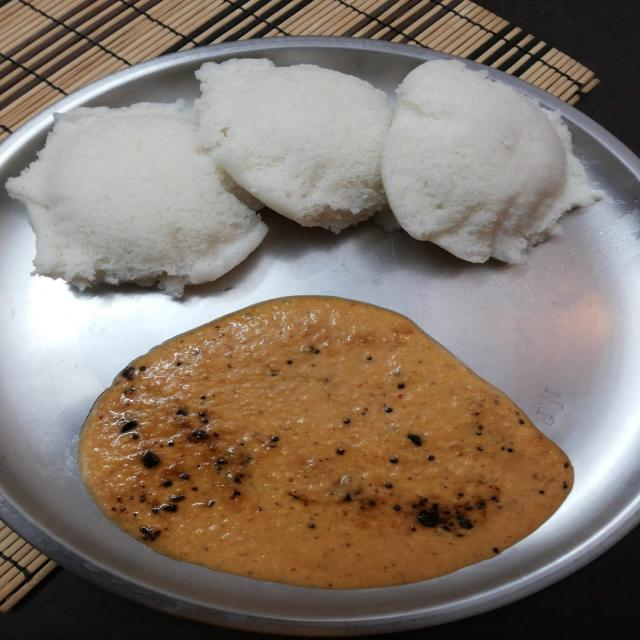Idly: (380, 37, 618, 284), (2, 89, 272, 299), (187, 45, 408, 237)
